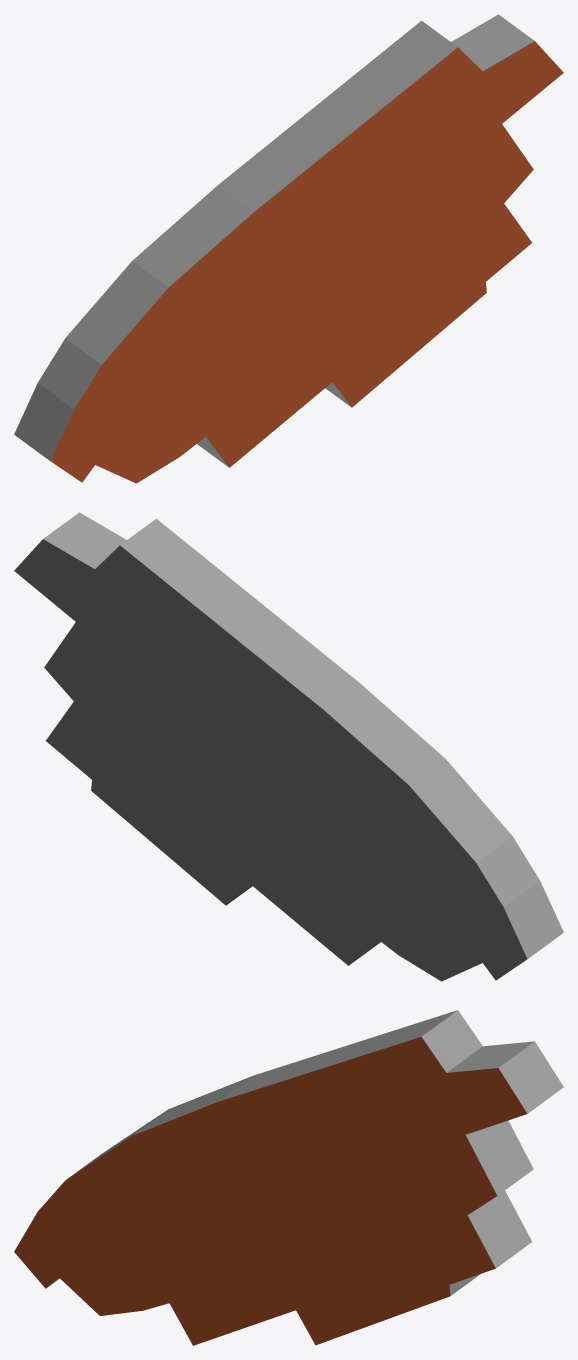
The model's file is construction_6847_assumed_A_Casa_h6m.obj.
3 views of the same model, one above another, from view 1: azimuth 30°, elevation 25°; view 2: azimuth 150°, elevation 25°; view 3: azimuth 330°, elevation 25° (orthographic).
Visible parts, largest first — view 1: construction_6847_assumed_A_Casa; view 2: construction_6847_assumed_A_Casa; view 3: construction_6847_assumed_A_Casa.
Part boxes in pixels (<box>): construction_6847_assumed_A_Casa: <box>14,14,563,483</box>; construction_6847_assumed_A_Casa: <box>14,512,563,981</box>; construction_6847_assumed_A_Casa: <box>14,1010,563,1345</box>.
Bounding box in the file's own units: 48.81 × 33.15 × 6.
